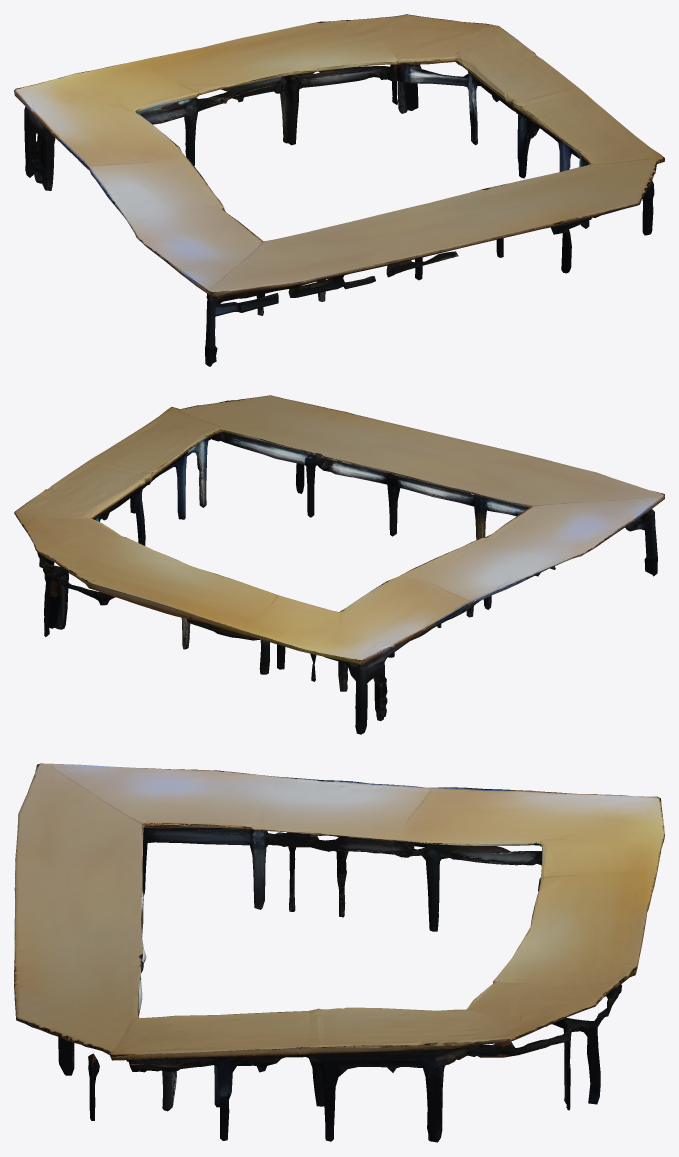
The model's file is reconviagen.glb.
3 renders of one model, top to bottom at view 1: azimuth 30°, elevation 25°; view 2: azimuth 150°, elevation 25°; view 3: azimuth 270°, elevation 25°, orthographic. The views are drawn at different scales.
Parts seen in each view (by area): view 1: world; view 2: world; view 3: world.
Boxes of the visible parts, x1,y1,x2,y2 form: world: [14, 14, 664, 366]; world: [14, 395, 664, 734]; world: [14, 763, 664, 1142].
Bounding box in the file's own units: 0.9999 × 0.1777 × 0.9607.
1 material, 1 textured.
